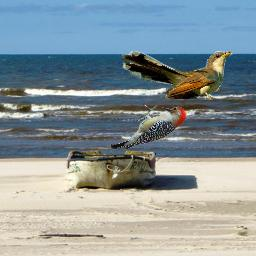Cuckoo: (122, 51, 233, 100)
Woodpecker: (111, 103, 187, 150)
